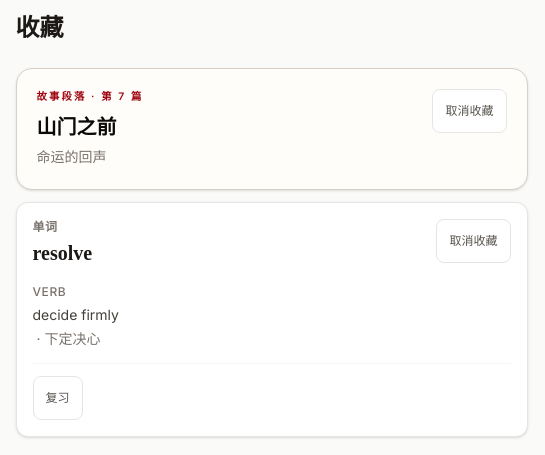
/bookmarks › sends a typed word payload and removes only that bookmark
The width and height of the screenshot is (545, 455).
Expected: the link "resolve" is shown, [32,239,92,267]
What coordinates should you click on to do the following:
click the button with aria-label "取消收藏单词 resolve"
I would click on:
 (474, 241)
Its box is [436,219,510,263].
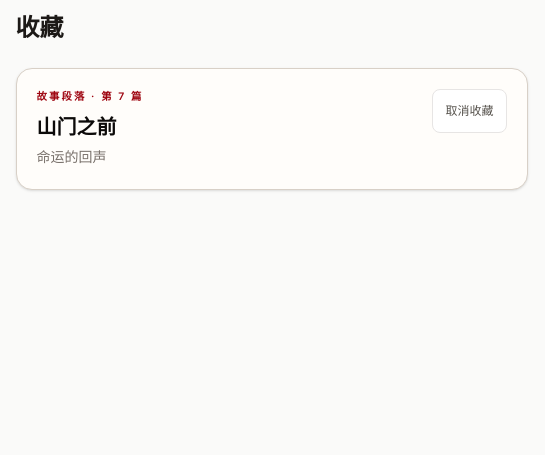
Expected: the link "山门之前" is shown, [36,113,116,141]
Now the link "resolve" is gone
